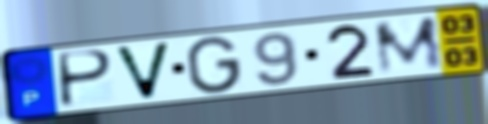2: (324, 23, 377, 82)
9: (248, 30, 301, 87)
G: (185, 34, 244, 96)
M: (370, 14, 447, 77)
P: (58, 48, 117, 110)
V: (111, 40, 175, 102)
